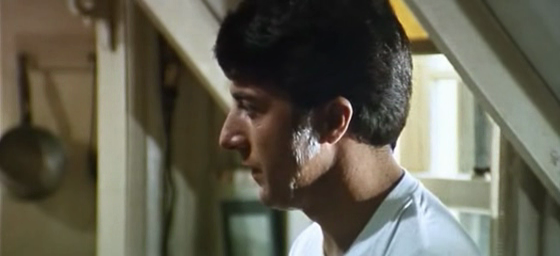cu: (1, 1, 560, 256)
face: (219, 82, 294, 211)
person: (211, 1, 487, 256)
